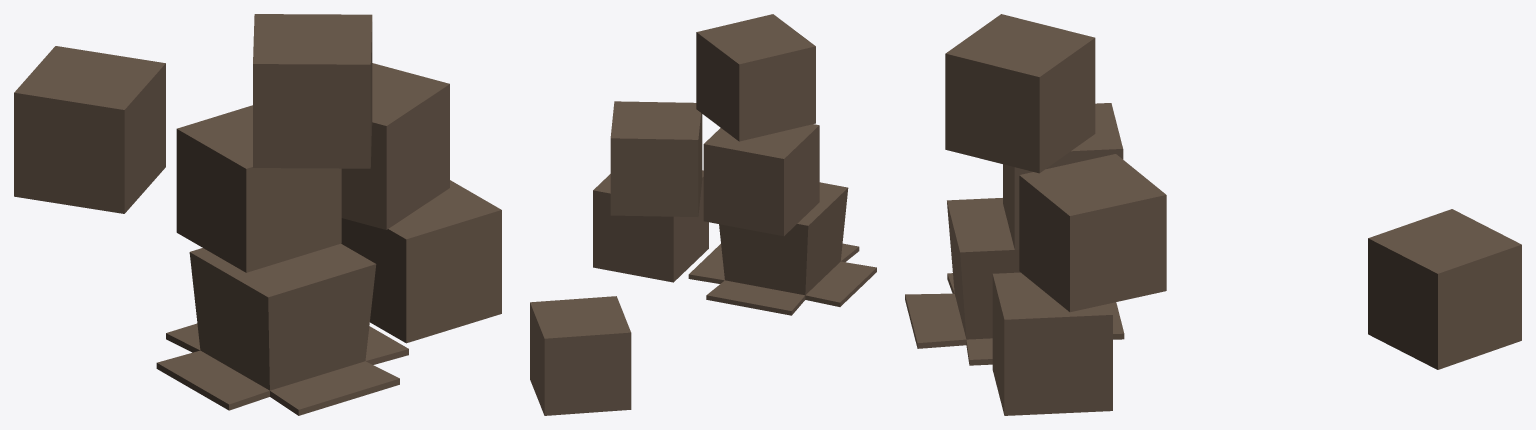
Rendered from pileofcardboard.fbx.
3 views of the same model, side by side, from view 1: azimuth 30°, elevation 25°; view 2: azimuth 150°, elevation 25°; view 3: azimuth 270°, elevation 25° (orthographic). The views are drawn at different scales.
Visible parts, largest first — view 1: polySurface530; view 2: polySurface530; view 3: polySurface530.
Part boxes in pixels (x1=…): polySurface530: x1=14, y1=14, x2=501, y2=415; polySurface530: x1=530, y1=14, x2=876, y2=415; polySurface530: x1=905, y1=14, x2=1521, y2=415.
Bounding box in the file's own units: 10.17 × 9.64 × 18.65.
